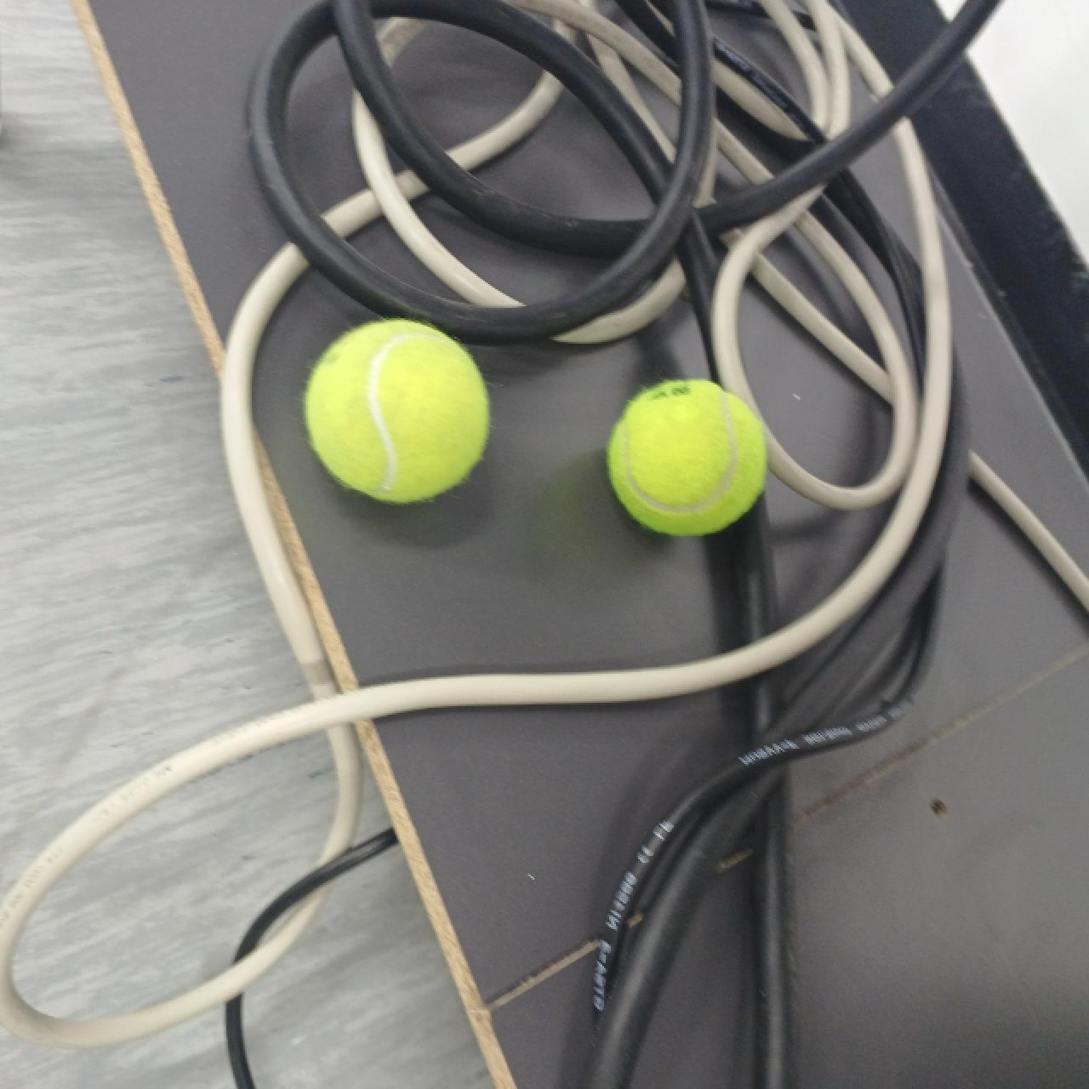tennis-ball: (299, 315, 493, 509), (602, 376, 772, 534)
